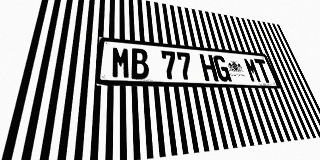7: (175, 52, 195, 81), (160, 50, 179, 80)
B: (130, 48, 149, 79)
G: (212, 55, 232, 82)
H: (199, 54, 219, 81)
M: (111, 46, 131, 79), (243, 58, 262, 83)
T: (254, 59, 273, 83)
